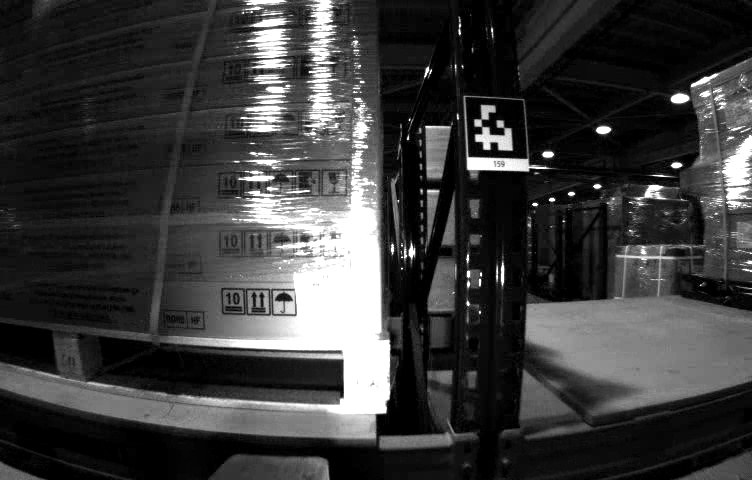True Barcode: (292, 272, 364, 336)
